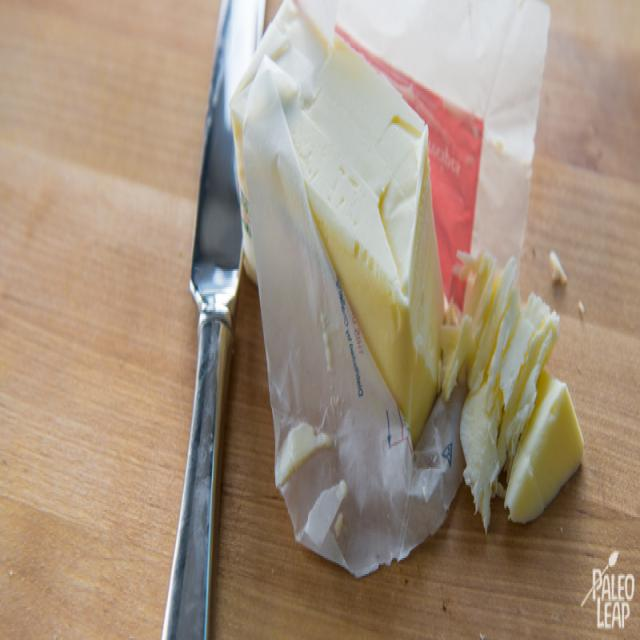Butter: (239, 9, 451, 453), (452, 266, 582, 517)
